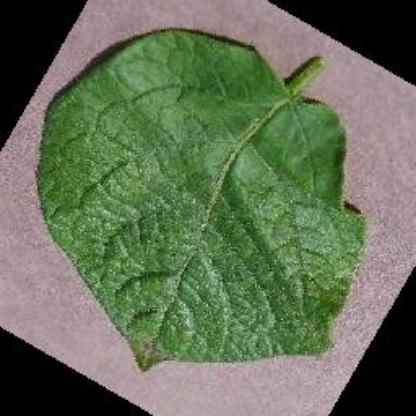Healthy-plant: (32, 28, 374, 378)
